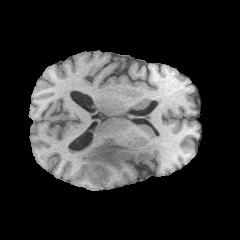glioma: (67, 138, 125, 169)
